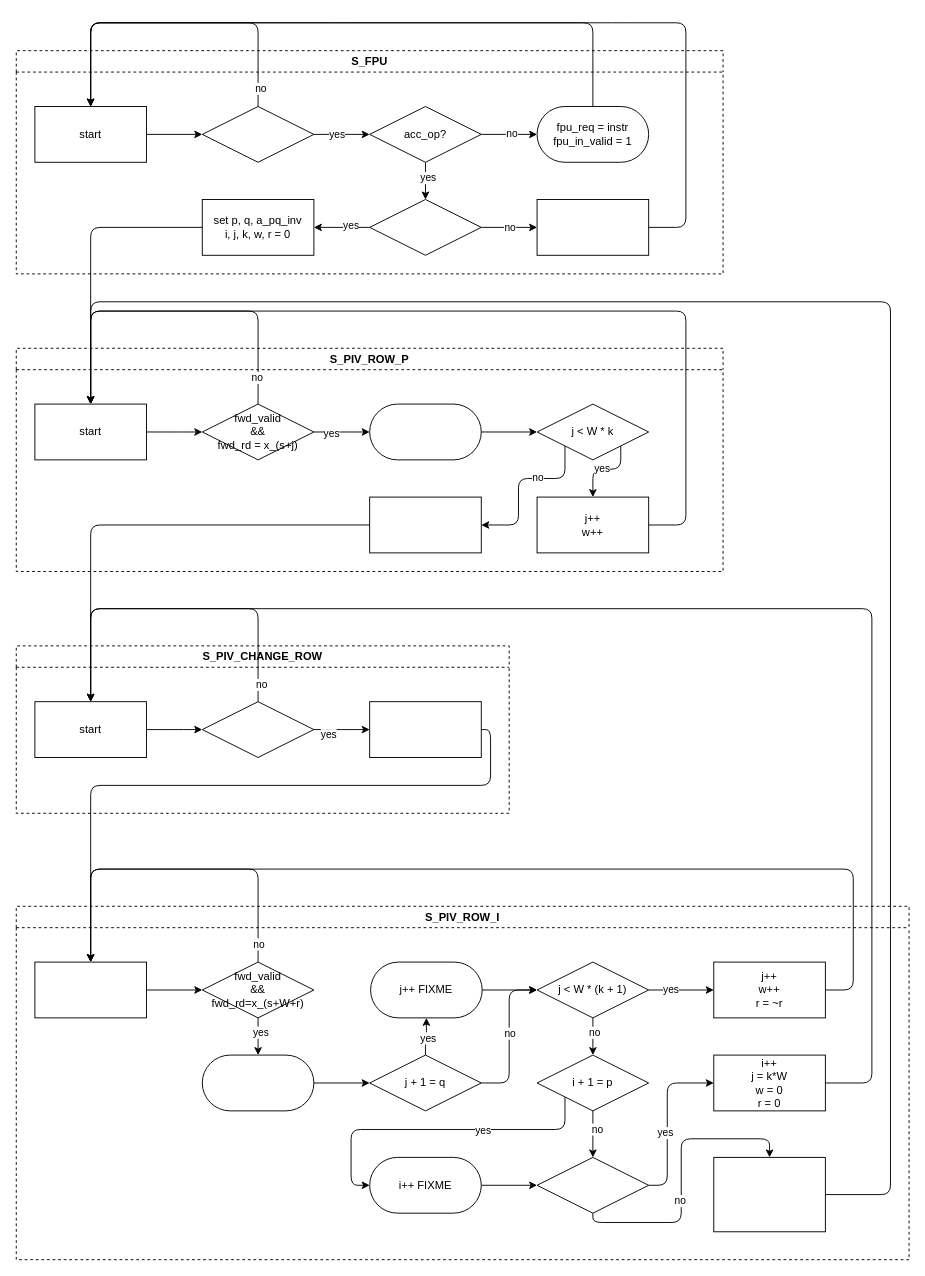
The diagram is 925 pixels wide and 1276 high, and some of its shapes have lost their labels. The centre of each missing label's shape, as x and y in pixels:
a_iq <= fwd_data: point (425, 729)
do acc_instr: point (592, 227)
fpu_req: a_ij-a_pj*a_iq, rd = x_(s + W + r) fpu_in_valid = 1: point (257, 1082)
fpu_req: a_pj * a_pq_inv, rd = x_(s+w) fpu_in_valid = 1: point (425, 431)
fwd_valid && fwd_rd = x_0: point (257, 729)
i < m: point (592, 1184)
i = 0 j = k* W w = 0 r = 0 k++: point (769, 1194)
instr_valid?: point (257, 134)
j = k * W w = 0: point (425, 524)
pivot?: point (425, 227)
read_reg x_(s+w): point (90, 989)
